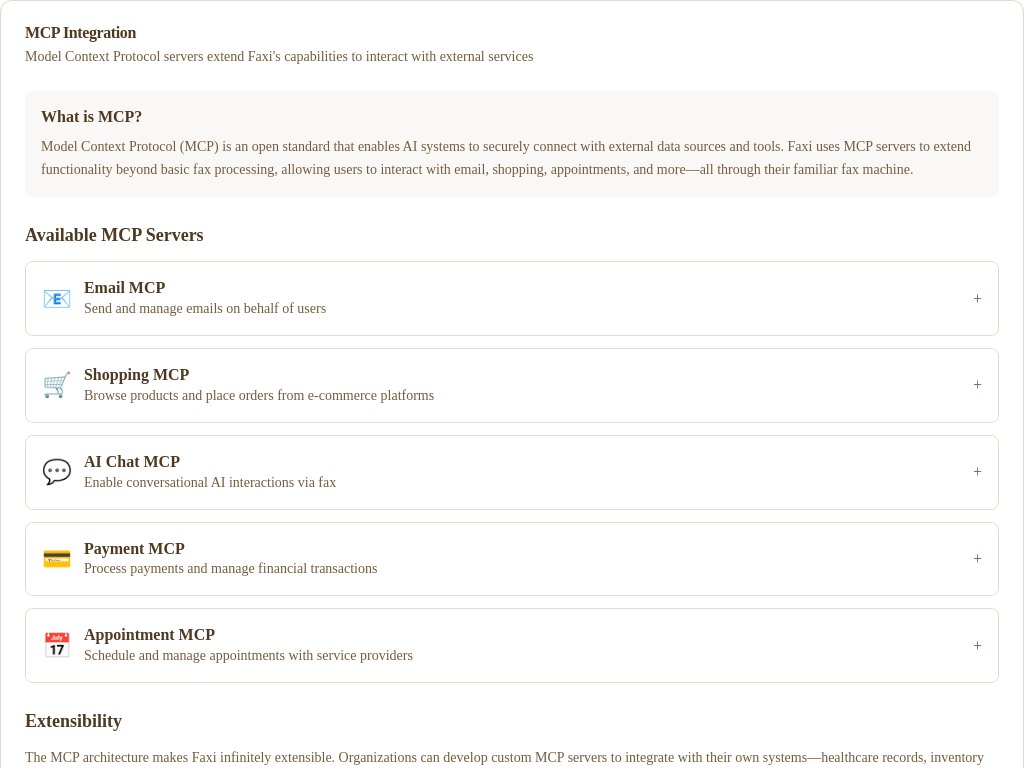
it: MCPIntegration › expands server details when clicked
The image size is (1024, 768).
Click the button "📧 Email MCP Send and manage emails on behalf of users +". click: (125, 288)
box: [26,262,998,335]
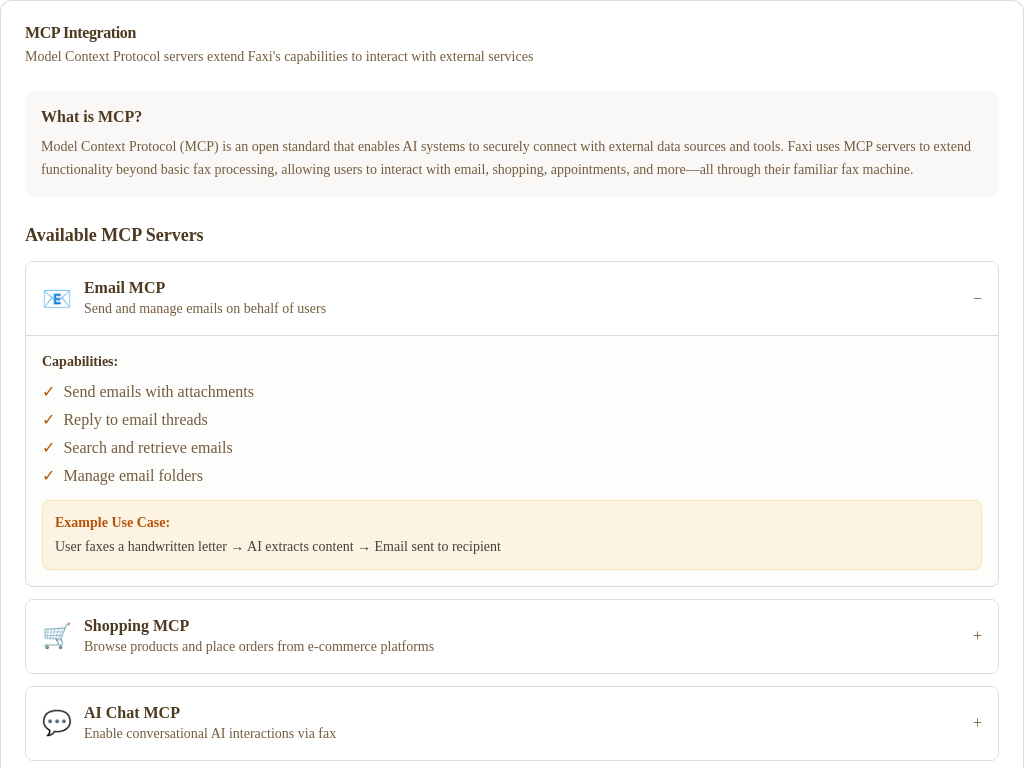
Check: the heading "Capabilities:" is shown, box [42,354,118,369]
Check: the text "Send emails with attachments" is shown, box [63,380,254,404]
